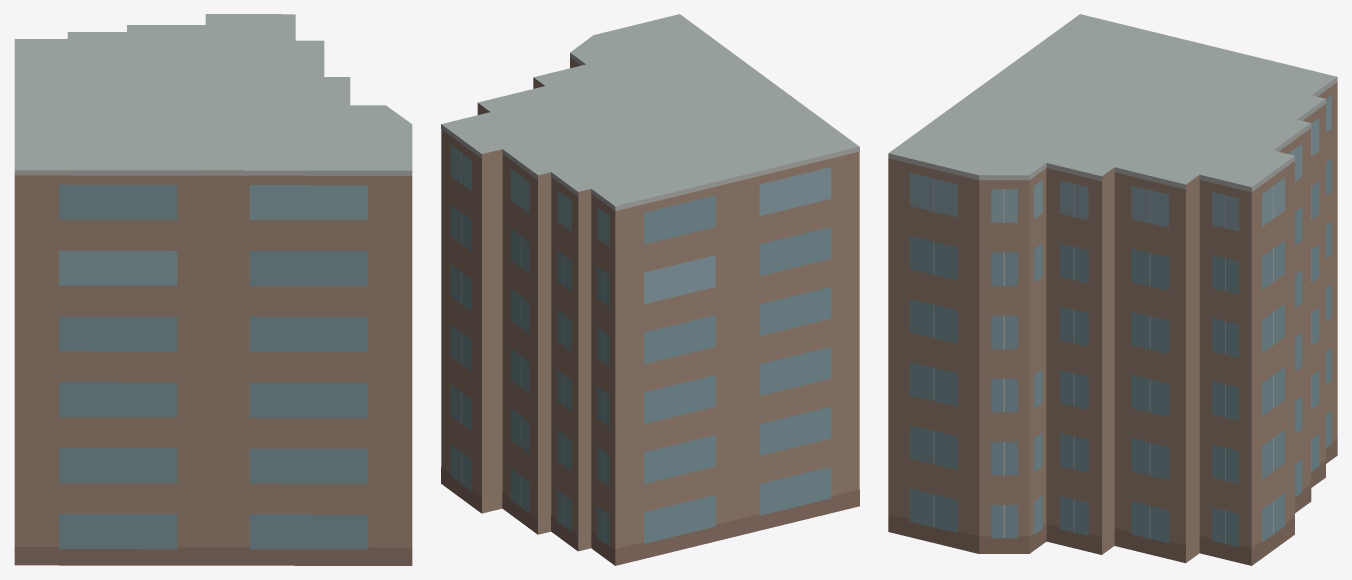
The model's file is survey-upis-32605705.glb.
3 views of the same model, side by side, from view 1: azimuth 30°, elevation 25°; view 2: azimuth 150°, elevation 25°; view 3: azimuth 270°, elevation 25° (orthographic). The views are drawn at different scales.
Visible parts, largest first — view 1: survey-upis-32605705.tmp; view 2: survey-upis-32605705.tmp; view 3: survey-upis-32605705.tmp.
Part boxes in pixels (x1=…): survey-upis-32605705.tmp: x1=14, y1=14, x2=412, y2=565; survey-upis-32605705.tmp: x1=441, y1=14, x2=859, y2=565; survey-upis-32605705.tmp: x1=888, y1=14, x2=1337, y2=565.
Bounding box in the file's own units: 17.97 × 18.3 × 19.69.
